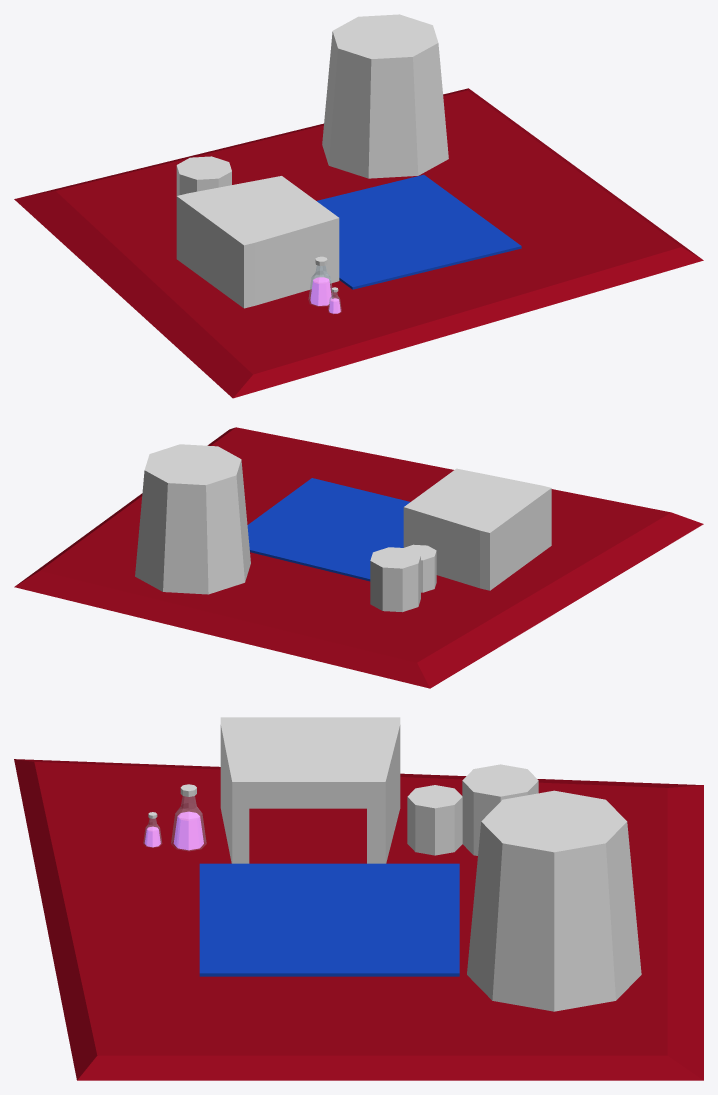
The model's file is CarpetShop.fbx.
3 renders of one model, top to bottom at view 1: azimuth 30°, elevation 25°; view 2: azimuth 150°, elevation 25°; view 3: azimuth 270°, elevation 25°, orthographic. The views are drawn at different scales.
Visible parts, largest first — view 1: Botella_vidrio.001; view 2: Botella_vidrio.001; view 3: Botella_vidrio.001.
Part boxes in pixels (x1,y1,x2,y2): Botella_vidrio.001: (14, 14, 703, 398); Botella_vidrio.001: (14, 427, 703, 688); Botella_vidrio.001: (14, 717, 703, 1080).
Bounding box in the file's own units: 992 × 243 × 900.
